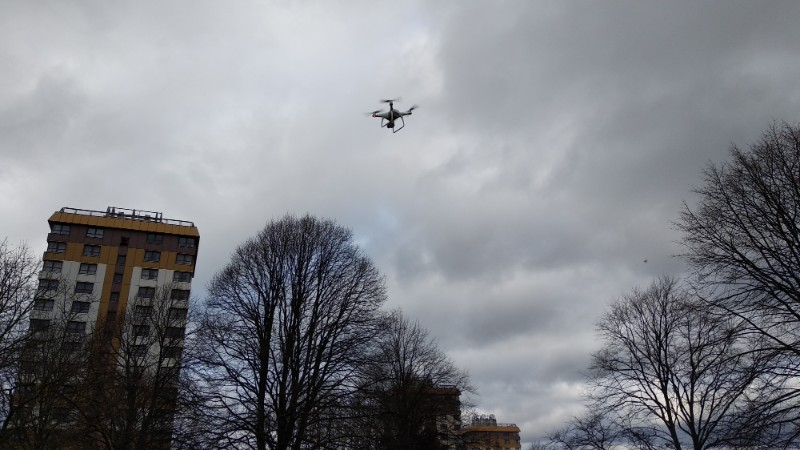drone: (365, 97, 420, 134)
